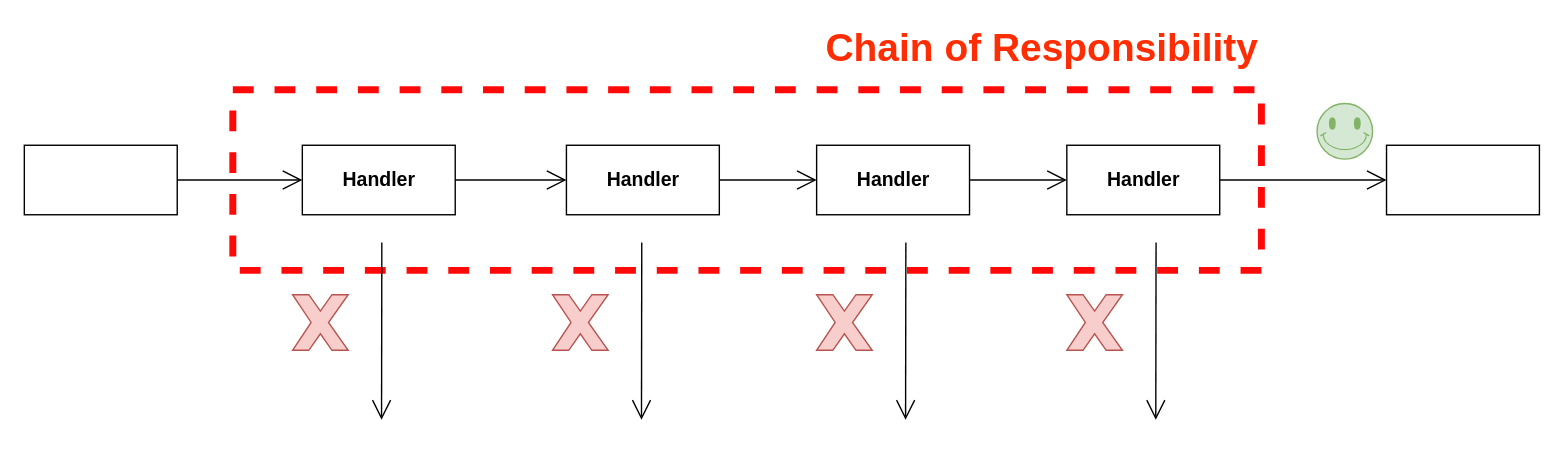
Image size: 1564x463. Some labels were removed from this diagram. The shapes that lost their labels are listed below. From the top down, each one's centre as x and y in pixels, then its label:
(x=100, y=179): Request
(x=1462, y=179): Course Application System
